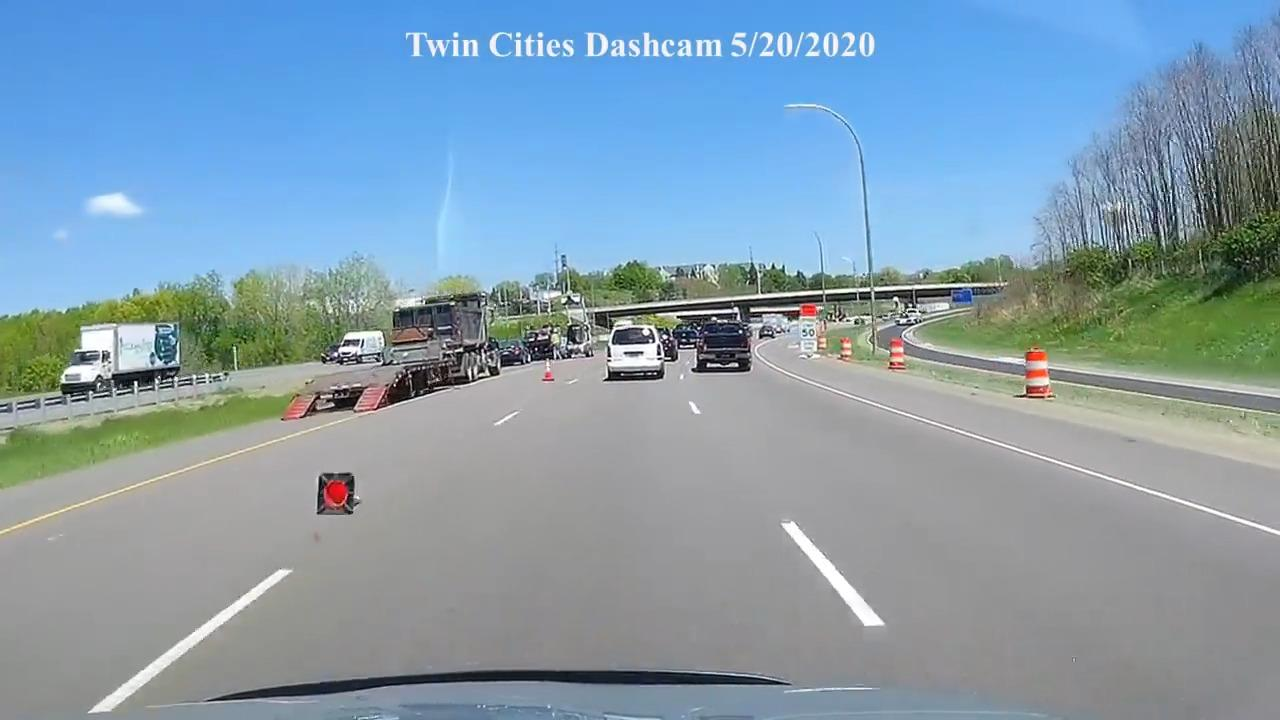car: (322, 344, 344, 364)
traffic cone: (1014, 347, 1056, 400), (886, 337, 908, 372), (839, 337, 853, 361), (542, 363, 555, 383)
traffic light: (316, 472, 357, 516)
